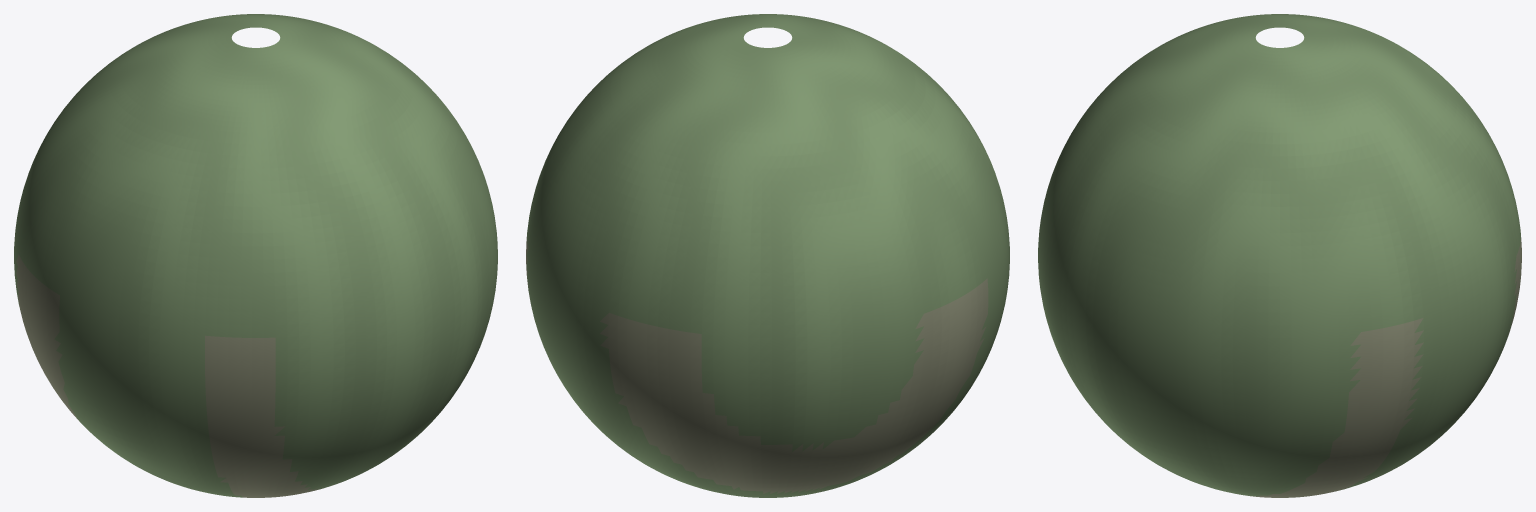
Rendered from planet.glb.
The picture shows the model from 3 angles, left to right: view 1: azimuth 30°, elevation 25°; view 2: azimuth 150°, elevation 25°; view 3: azimuth 270°, elevation 25°; orthographic projection.
Bounding box in the file's own units: 240 × 239 × 240.
